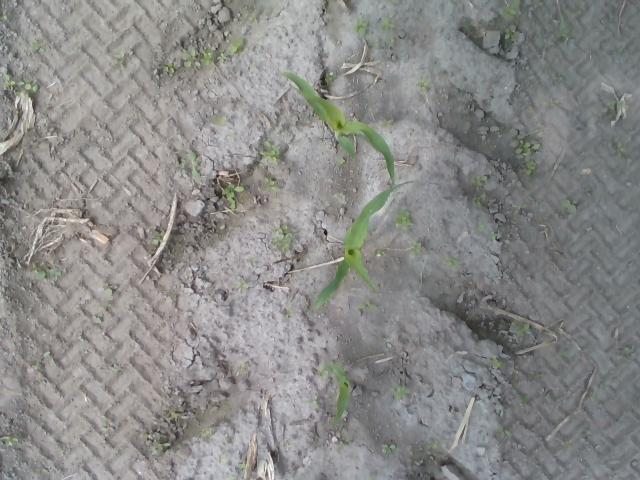Maize: (281, 71, 398, 185), (312, 182, 411, 310), (316, 358, 354, 427)
Weeds: (181, 47, 229, 68), (269, 224, 298, 253), (2, 73, 40, 95), (174, 152, 202, 178), (513, 137, 543, 160), (223, 183, 246, 209), (34, 266, 64, 284), (260, 141, 282, 164), (474, 222, 502, 240), (498, 3, 523, 20), (394, 210, 414, 231), (608, 140, 626, 159), (263, 175, 281, 193), (489, 352, 506, 370), (511, 321, 530, 336), (151, 442, 172, 455), (352, 18, 369, 34), (232, 278, 248, 294), (381, 441, 397, 457), (446, 255, 464, 269), (555, 27, 573, 41), (230, 38, 244, 56), (30, 40, 48, 54), (357, 301, 379, 312), (2, 434, 20, 447), (392, 385, 407, 400), (408, 242, 424, 256), (472, 194, 488, 208), (471, 174, 489, 186), (376, 18, 394, 30), (379, 116, 394, 130), (504, 25, 518, 40), (524, 160, 536, 177), (150, 232, 162, 248), (561, 198, 577, 210), (417, 80, 433, 92), (498, 426, 512, 438), (162, 64, 178, 74), (212, 116, 226, 126), (624, 345, 633, 358), (518, 396, 529, 406), (105, 286, 112, 295)
